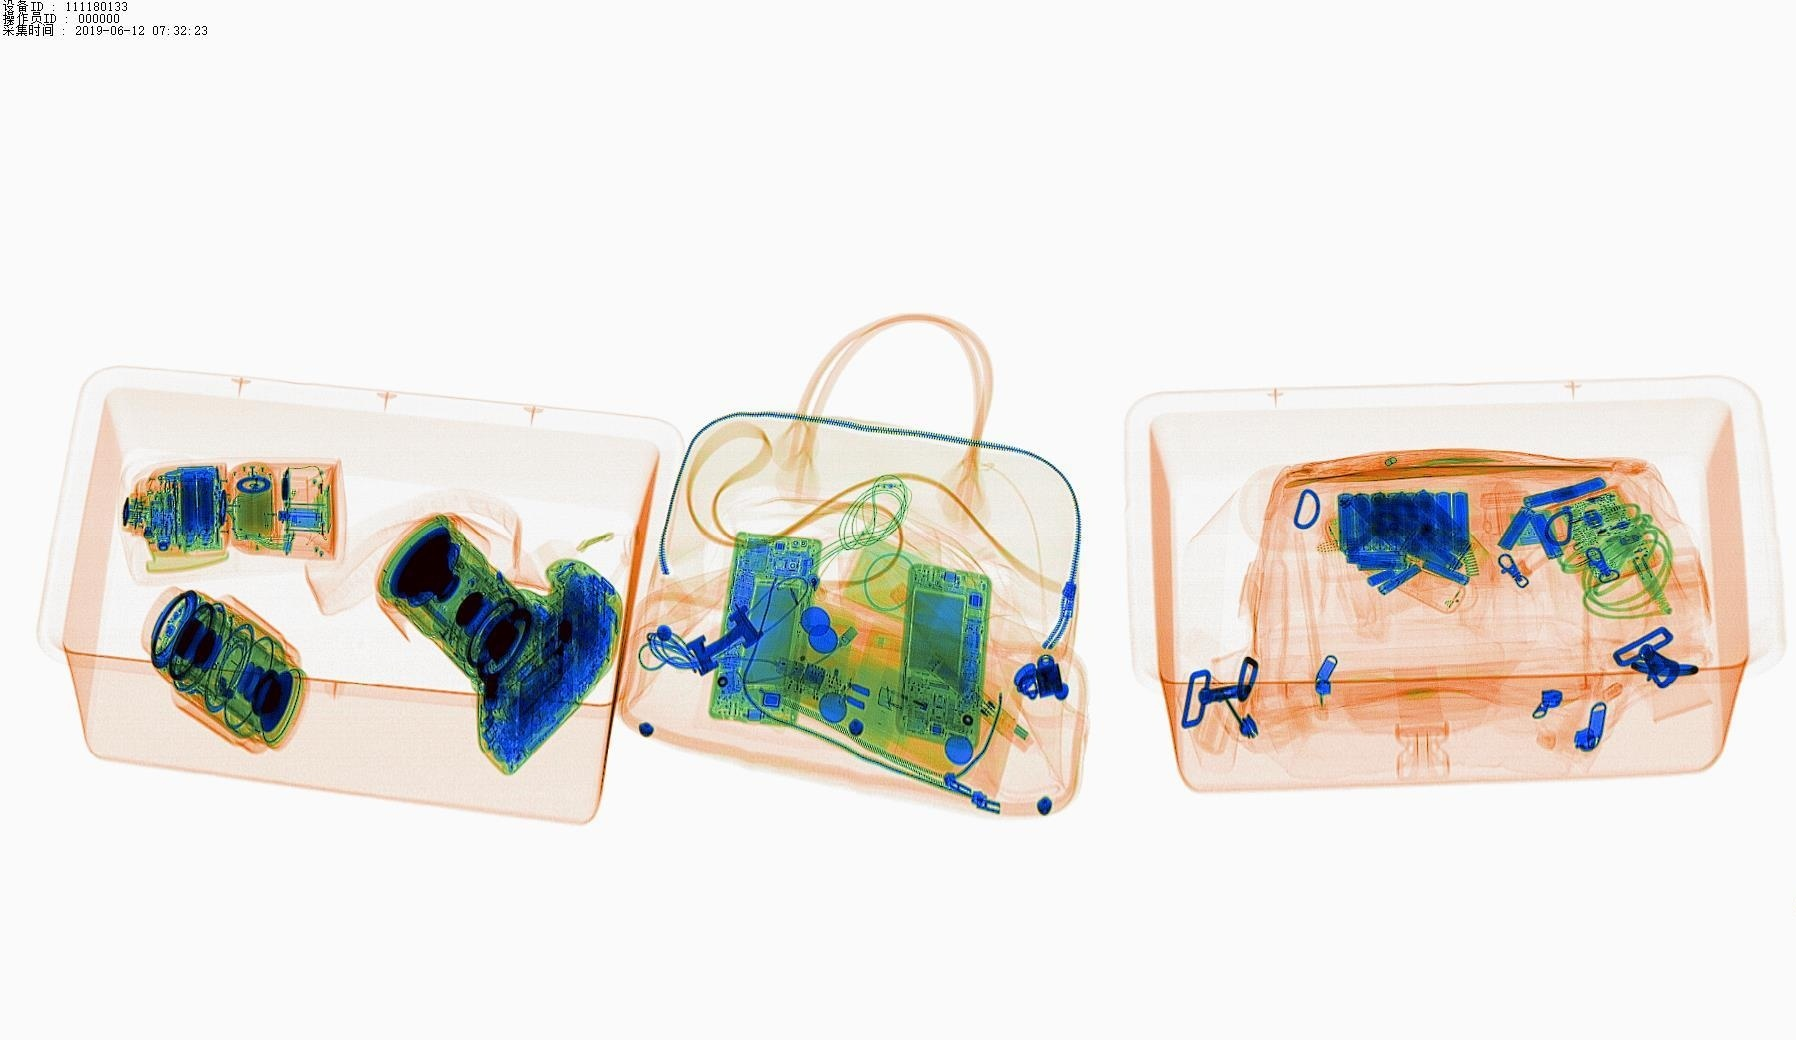NonmetallicFire: (850, 682, 958, 735)
